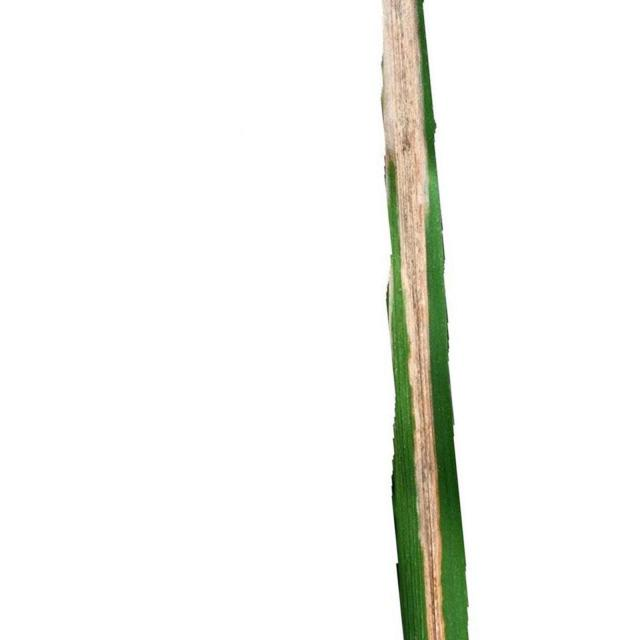Bacterial_Leaf_Blight: (382, 0, 445, 639)
